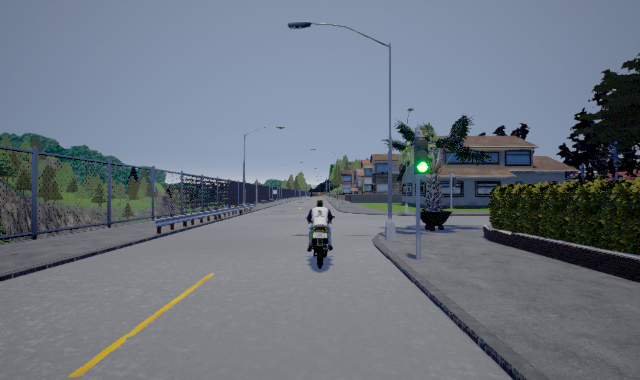motobike: (305, 198, 336, 269)
traffic_light: (414, 136, 428, 175)
